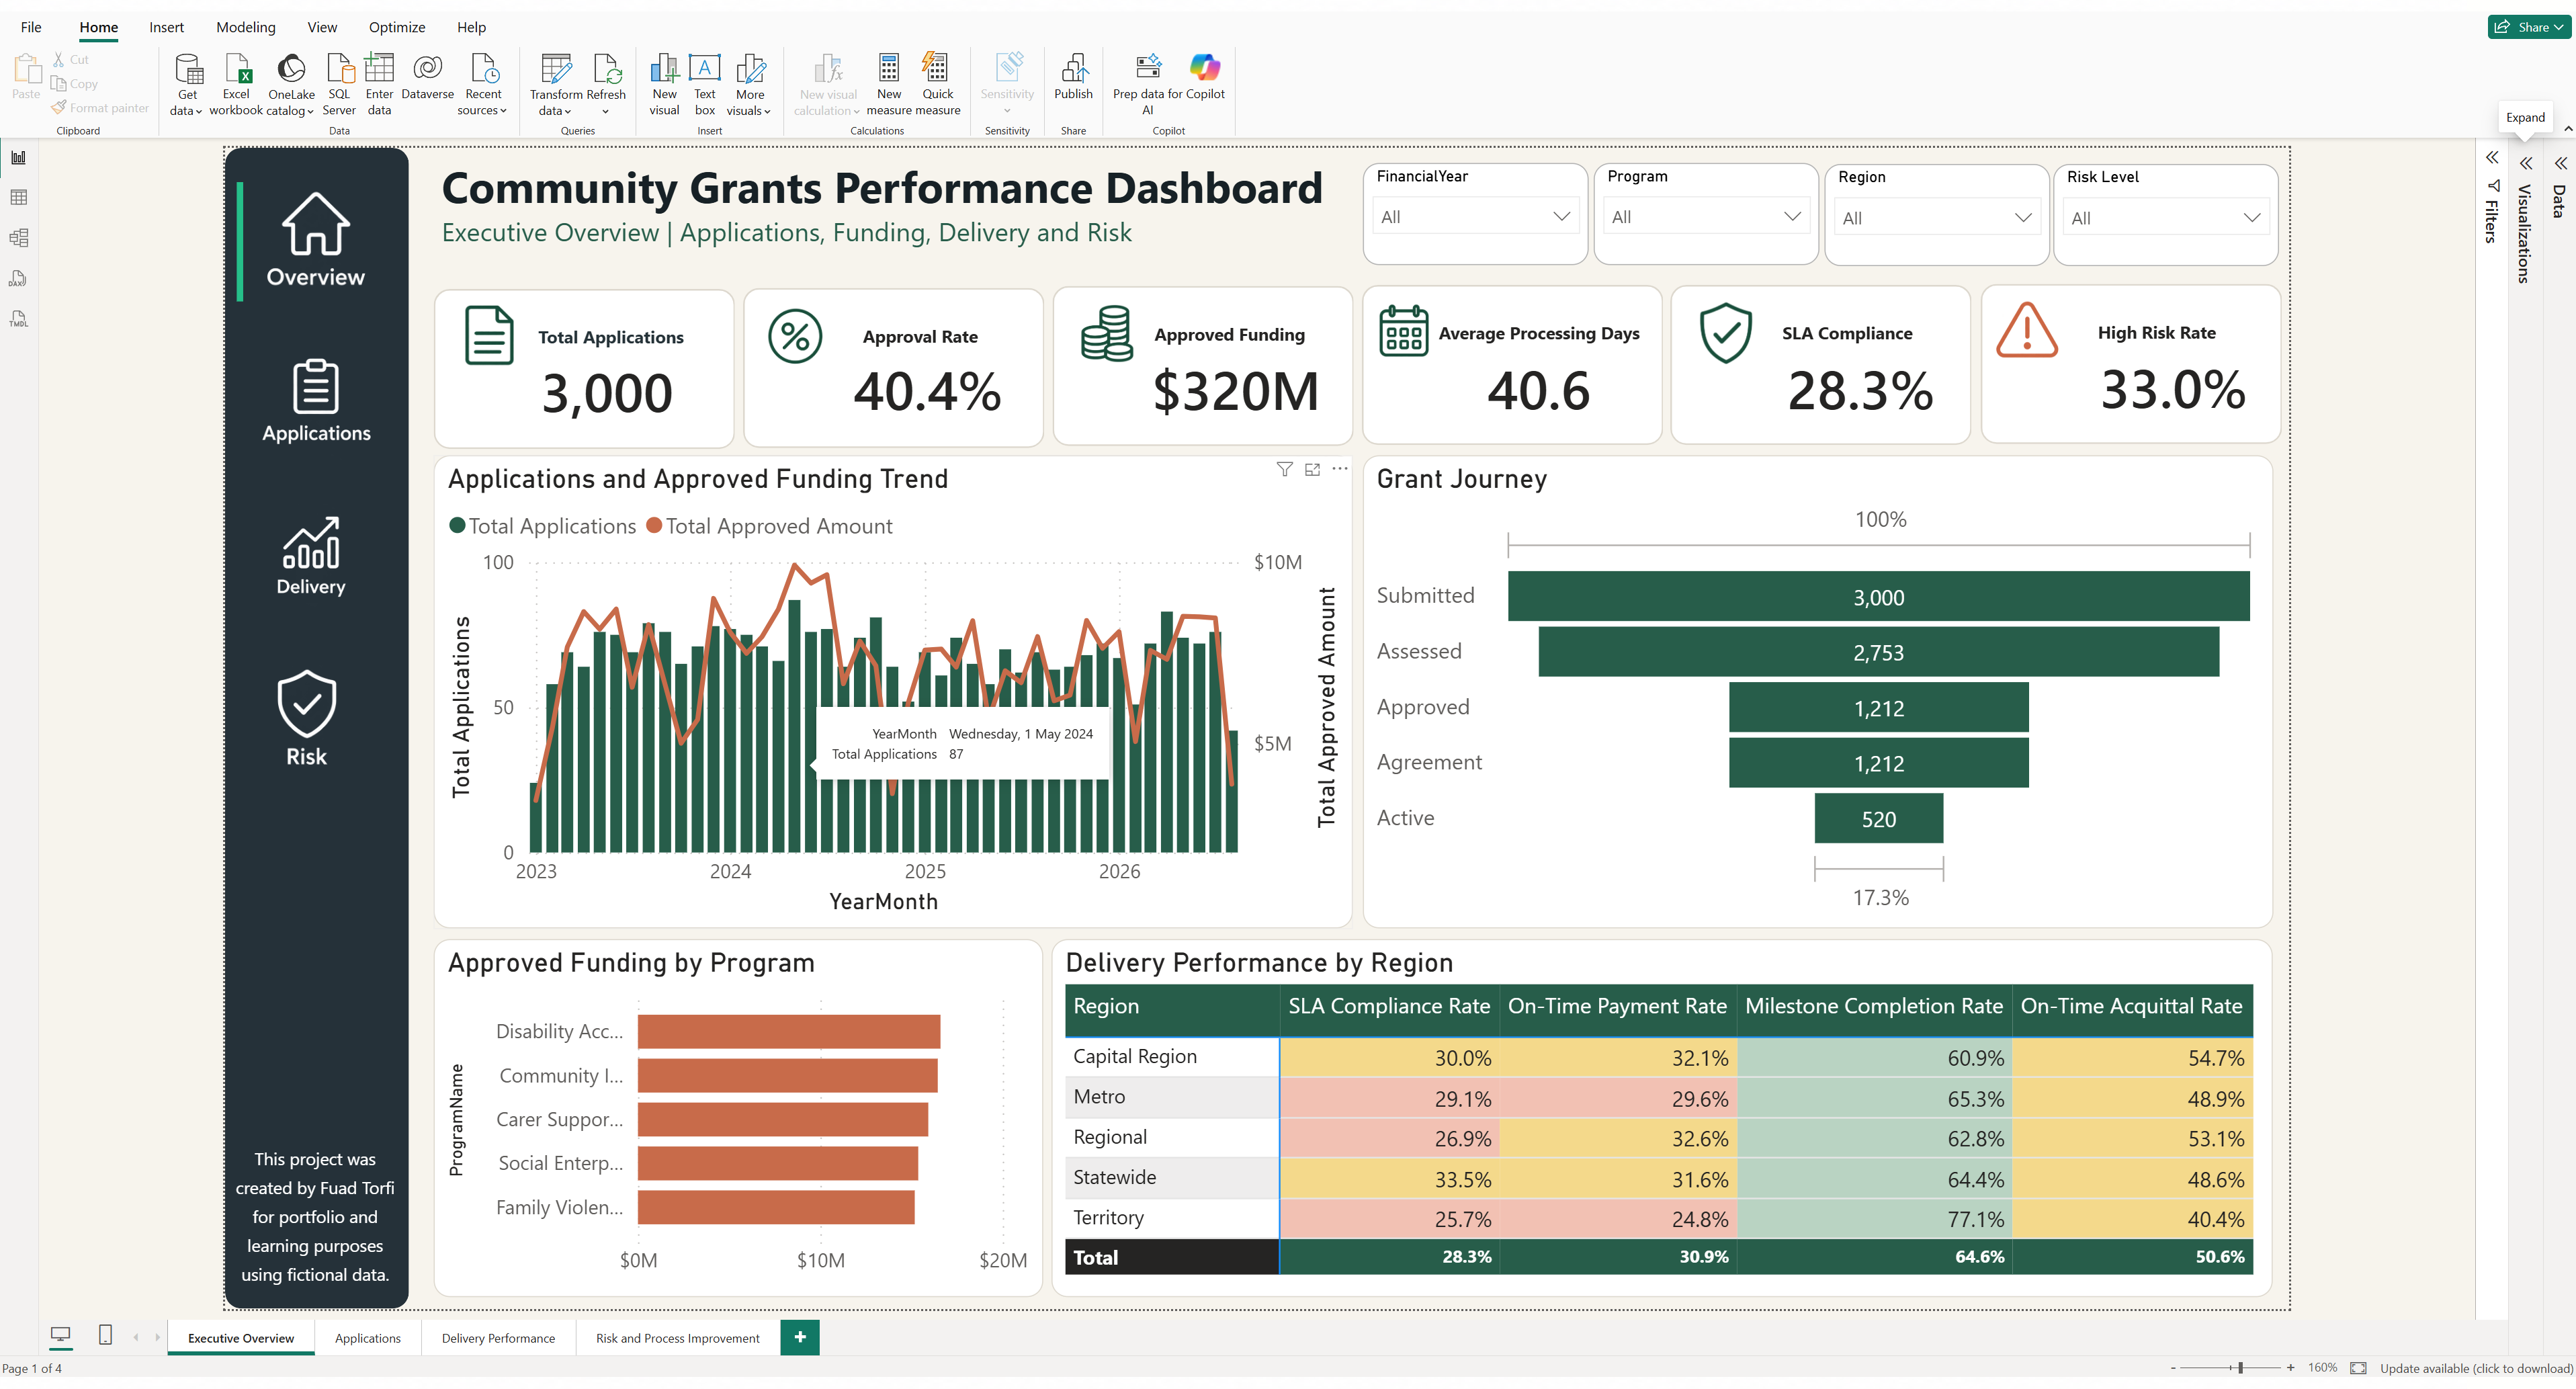

The dashboard page shown, as its layout file describes it:
{"tool":"powerbi","page":{"name":"Executive Overview","canvas":[1280,720],"ordinal":0},"visuals":[{"type":"shape","box":[0,0,114,719.7],"z":0},{"type":"shape","box":[129.2,87.7,186.9,99.2],"z":1000},{"type":"textbox","box":[129.3,0,570.7,72.7],"z":2000},{"type":"cardVisual","fields":{"Data":["DAX measures.Total Applications"]},"box":[167.1,112.1,144.3,74.3],"z":3000},{"type":"textbox","box":[162.2,101.5,153.7,30.7],"z":4000},{"type":"image","box":[140.7,96.1,46.8,39.6],"z":5000},{"type":"shape","box":[321.3,86.9,186.9,99.2],"z":6000},{"type":"cardVisual","fields":{"Data":["DAX measures.Approval Rate"]},"box":[360.7,111.4,158.6,73.6],"z":7000},{"type":"textbox","box":[354.3,100.7,153.7,30.7],"z":8000},{"type":"image","box":[331.1,97.5,48.2,39.6],"z":9000},{"type":"shape","box":[513.1,85.9,186.9,99.2],"z":10000},{"type":"cardVisual","fields":{"Data":["DAX measures.Total Approved Amount"]},"box":[545.9,110.9,170.9,74.1],"z":11000},{"type":"textbox","box":[546.1,99.7,153.7,30.7],"z":12000},{"type":"image","box":[524.3,94.3,43.6,38.9],"z":13000},{"type":"shape","box":[705.1,85.1,186.9,99.2],"z":14000},{"type":"cardVisual","fields":{"Data":["DAX measures.Average Processing Days"]},"box":[753.6,110,142.7,74.1],"z":15000},{"type":"textbox","box":[738.1,98.9,153.7,30.7],"z":16000},{"type":"image","box":[709.6,96.8,43.9,35],"z":17000},{"type":"shape","box":[896.4,85.1,186.9,99.2],"z":18000},{"type":"cardVisual","fields":{"Data":["DAX measures.SLA Compliance Rate"]},"box":[940,110,162,74],"z":19000},{"type":"textbox","box":[929.4,98.9,153.7,30.7],"z":20000},{"type":"image","box":[907.1,95.4,47.5,41.8],"z":21000},{"type":"shape","box":[1088.5,84.4,186.9,99.2],"z":22000},{"type":"cardVisual","fields":{"Data":["DAX measures.High Risk Rate"]},"box":[1138.6,109.3,141.4,74.3],"z":23000},{"type":"textbox","box":[1121.5,98.1,153.7,30.7],"z":24000},{"type":"image","box":[1092.5,94.6,46.4,41.1],"z":25000},{"type":"lineClusteredColumnComboChart","title":"Applications and Approved Funding Trend","fields":{"Category":["Date.YearMonth"],"Y":["DAX measures.Total Applications"],"Y2":["DAX measures.Total Approved Amount"]},"box":[129.1,190.9,570,293.6],"z":26000},{"type":"clusteredBarChart","title":"Approved Funding by Program","fields":{"Category":["Programs.ProgramName"],"Y":["DAX measures.Total Approved Amount"]},"box":[129.1,490.9,378.2,221.8],"z":27000},{"type":"pivotTable","title":"Delivery Performance by Region","fields":{"Values":["DAX measures.SLA Compliance Rate","DAX measures.On-Time Payment Rate","DAX measures.Milestone Completion Rate","DAX measures.On-Time Acquittal Rate"],"Rows":["Applications.Region"]},"box":[512.7,490.9,757.3,221.8],"z":28000},{"type":"slicer","fields":{"Values":["Date.FinancialYear"]},"box":[705.3,9.3,140,63.3],"z":29000},{"type":"slicer","fields":{"Values":["Programs.ProgramName"]},"box":[848.6,9.5,140,63.2],"z":30000},{"type":"slicer","fields":{"Values":["Applications.Region"]},"box":[991.8,10,140,63.2],"z":31000},{"type":"slicer","fields":{"Values":["Applications.RiskRating"]},"box":[1133.6,10,140,63.2],"z":32000},{"type":"funnel","title":"Grant Journey","fields":{"Category":["Journey_.Stage"],"Y":["Journey_.Journey Count"]},"box":[705.5,190.9,564.5,293.6],"z":33000},{"type":"image","box":[18.4,26.8,76.3,64],"z":34000},{"type":"image","box":[0,129.1,113.6,64],"z":35000},{"type":"image","box":[5.9,220.6,88.8,64],"z":36000},{"type":"image","box":[0,320,100.8,64.2],"z":37000},{"type":"shape","box":[0,21.2,18.5,74.2],"z":38000},{"type":"textbox","box":[0,610.6,111.9,109.4],"z":38001}]}

Visuals, with their boxes on the page's 1280x720 design canvas (x1, y1, x2, y2). These are canvas units, not pixel positions in the 2576x1389 screenshot, which may show the page scaled, cropped or inside an application window:
shape: region(0, 0, 114, 720)
shape: region(129, 88, 316, 187)
textbox: region(129, 0, 700, 73)
cardVisual - DAX measures.Total Applications: region(167, 112, 311, 186)
textbox: region(162, 102, 316, 132)
image: region(141, 96, 188, 136)
shape: region(321, 87, 508, 186)
cardVisual - DAX measures.Approval Rate: region(361, 111, 519, 185)
textbox: region(354, 101, 508, 131)
image: region(331, 98, 379, 137)
shape: region(513, 86, 700, 185)
cardVisual - DAX measures.Total Approved Amount: region(546, 111, 717, 185)
textbox: region(546, 100, 700, 130)
image: region(524, 94, 568, 133)
shape: region(705, 85, 892, 184)
cardVisual - DAX measures.Average Processing Days: region(754, 110, 896, 184)
textbox: region(738, 99, 892, 130)
image: region(710, 97, 754, 132)
shape: region(896, 85, 1083, 184)
cardVisual - DAX measures.SLA Compliance Rate: region(940, 110, 1102, 184)
textbox: region(929, 99, 1083, 130)
image: region(907, 95, 955, 137)
shape: region(1088, 84, 1275, 184)
cardVisual - DAX measures.High Risk Rate: region(1139, 109, 1280, 184)
textbox: region(1122, 98, 1275, 129)
image: region(1092, 95, 1139, 136)
"Applications and Approved Funding Trend" lineClusteredColumnComboChart: region(129, 191, 699, 484)
"Approved Funding by Program" clusteredBarChart: region(129, 491, 507, 713)
"Delivery Performance by Region" pivotTable: region(513, 491, 1270, 713)
slicer - Date.FinancialYear: region(705, 9, 845, 73)
slicer - Programs.ProgramName: region(849, 10, 989, 73)
slicer - Applications.Region: region(992, 10, 1132, 73)
slicer - Applications.RiskRating: region(1134, 10, 1274, 73)
"Grant Journey" funnel: region(706, 191, 1270, 484)
image: region(18, 27, 95, 91)
image: region(0, 129, 114, 193)
image: region(6, 221, 95, 285)
image: region(0, 320, 101, 384)
shape: region(0, 21, 18, 95)
textbox: region(0, 611, 112, 720)
